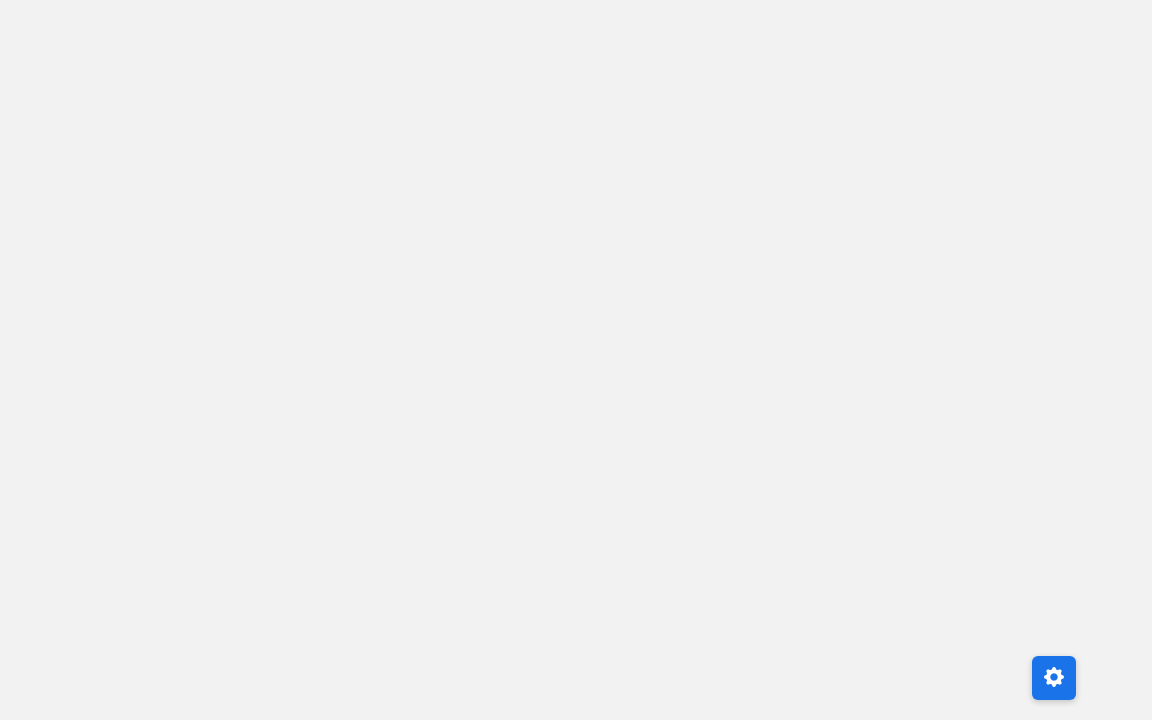
Test: Settings › closes with the close button, Escape, and a backdrop click
The width and height of the screenshot is (1152, 720).
Step 1. Click the button named "Settings" → [1054, 678], box [1032,656,1076,700]
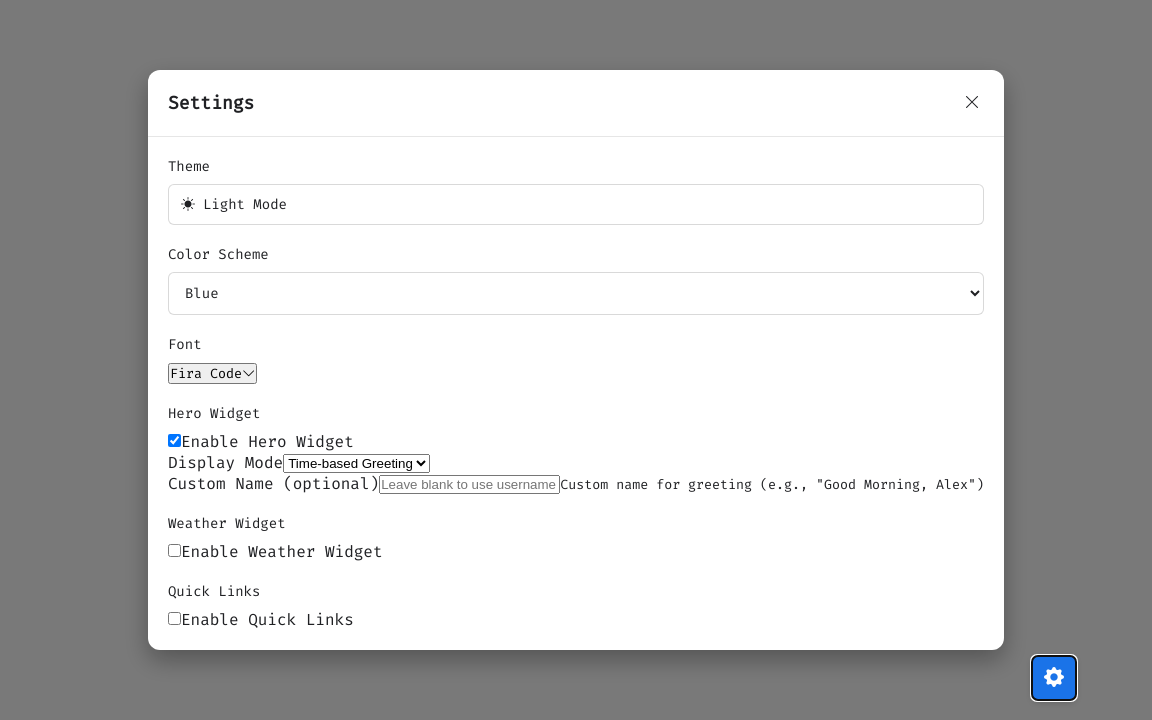
Step 2. Click the button named "Close settings" → [972, 103], box [960,90,984,116]
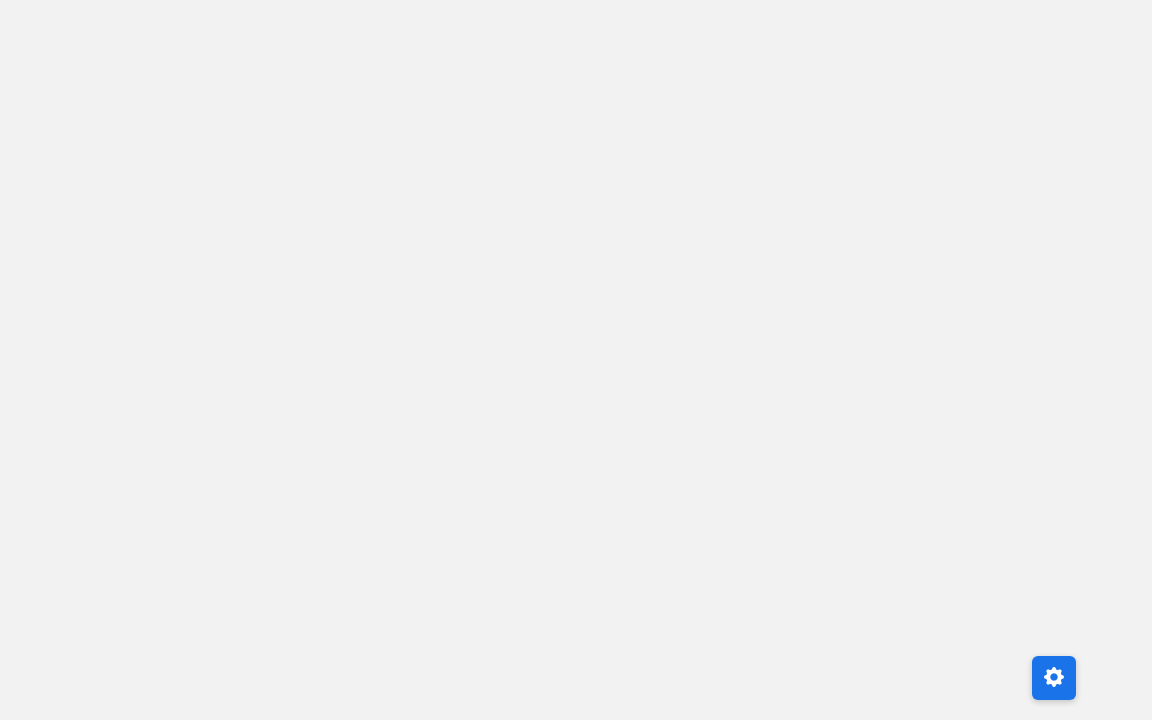
Now the dialog is gone
Step 3. Click the button named "Settings" → [1054, 678], box [1032,656,1076,700]
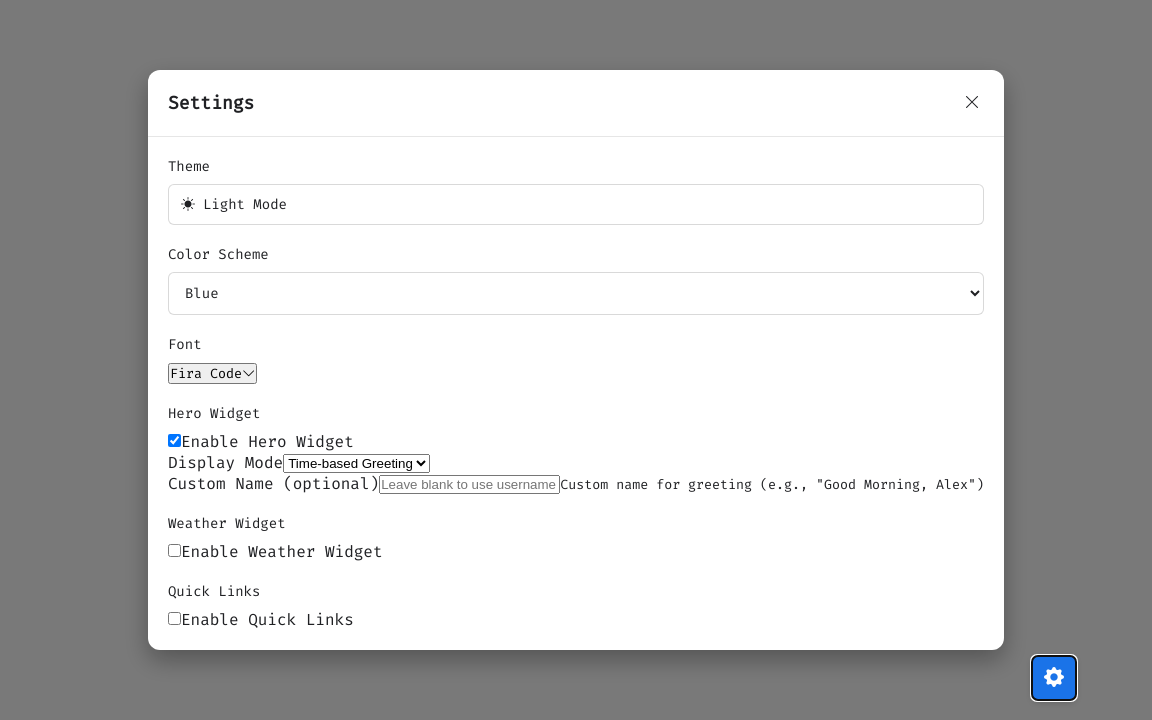
Step 4. Press Escape
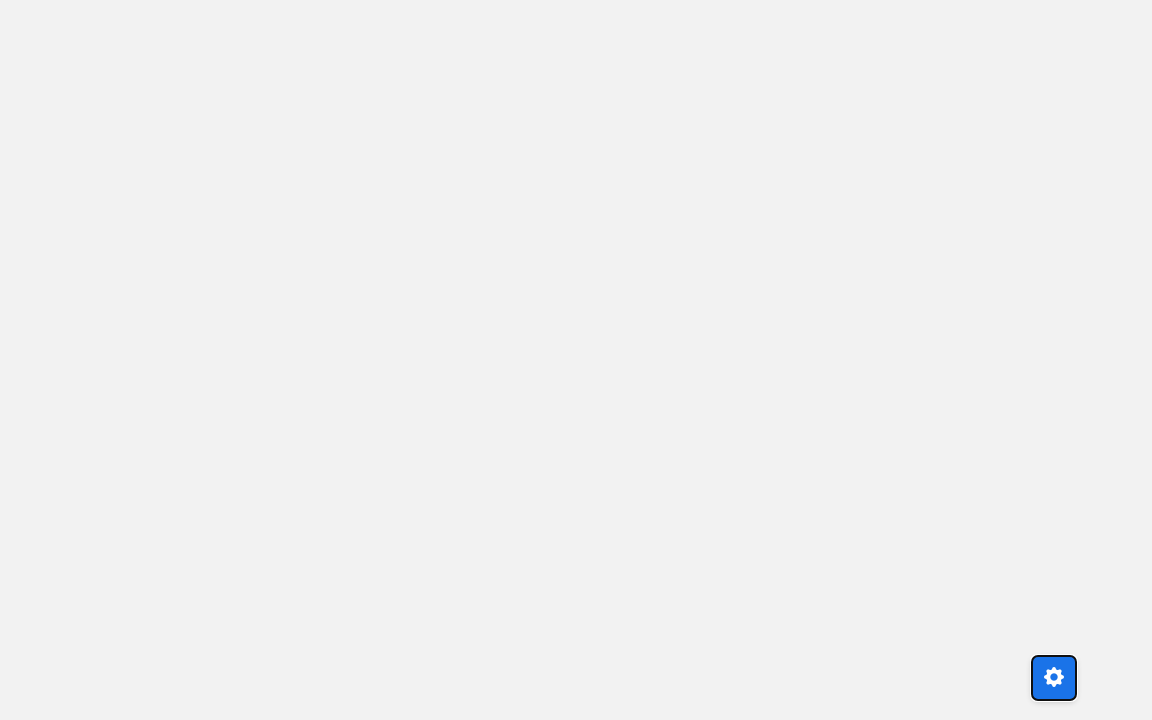
Now the dialog is gone
Step 5. Click the button named "Settings" → [1054, 678], box [1032,656,1076,700]
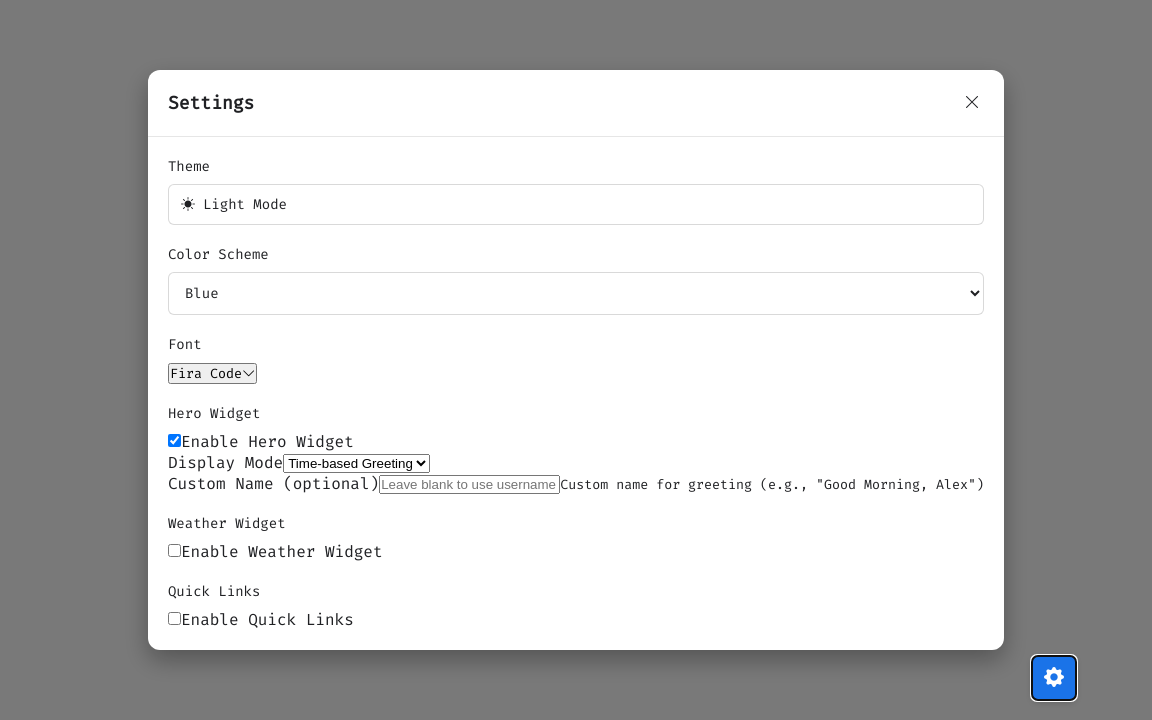
Step 6. Click the element that starts with "Settings" → [69, 360], box [0,0,1151,719]
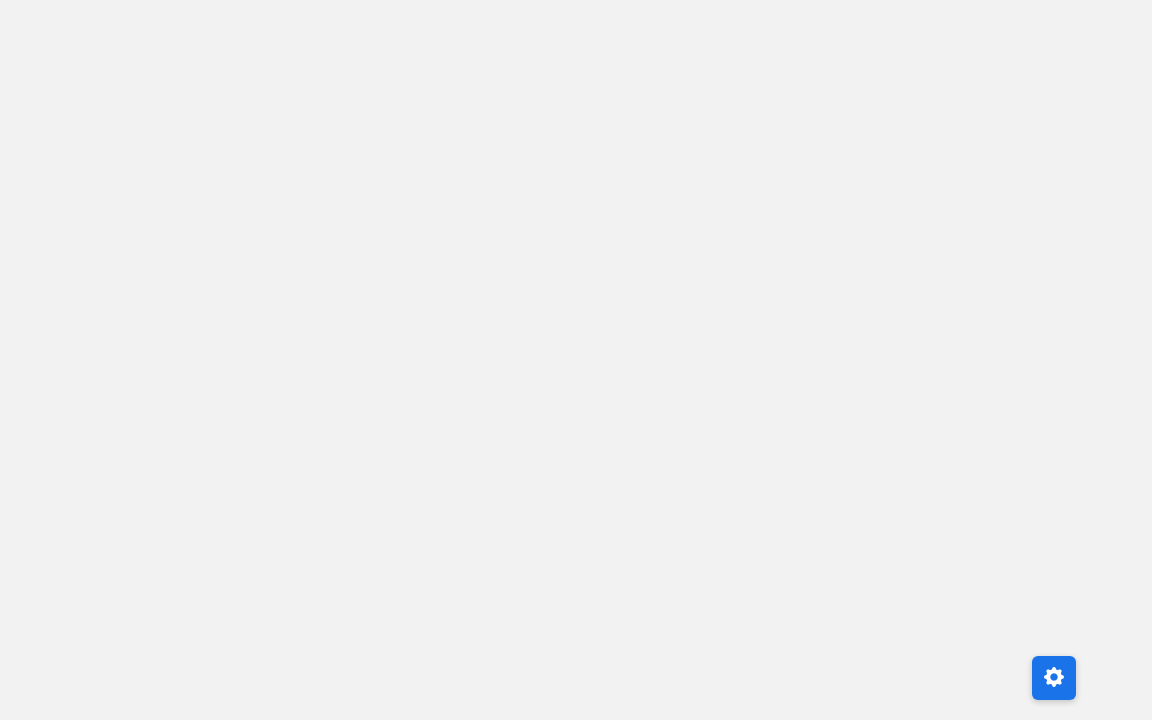
Now the dialog is gone
